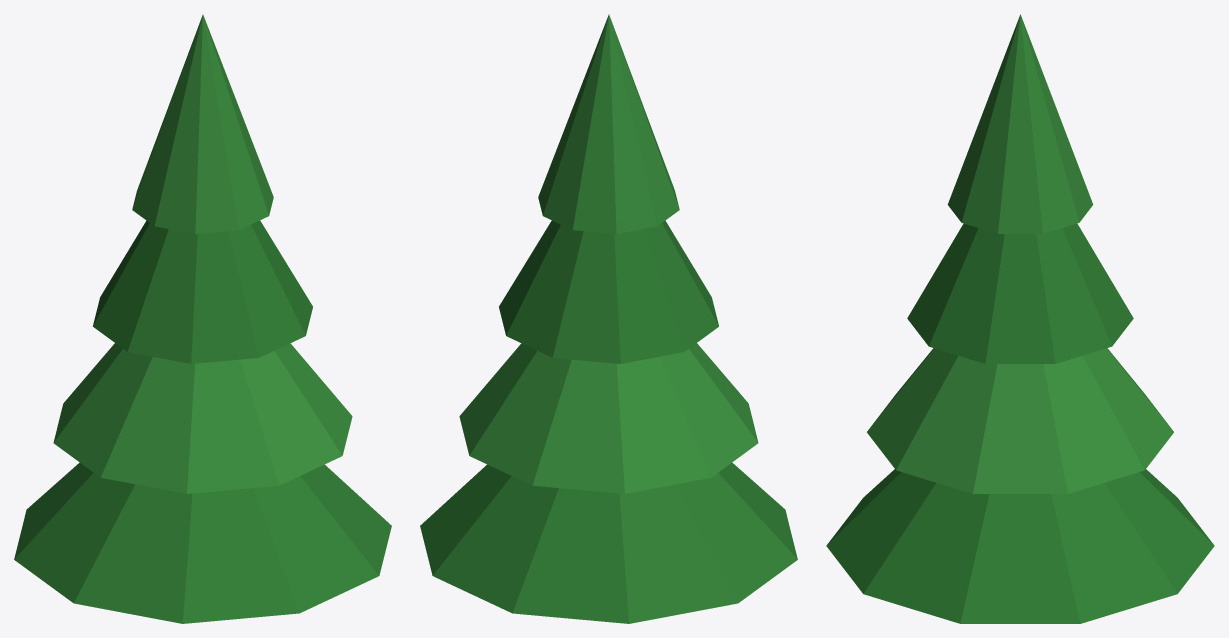
The model's file is Pine.glb.
3 views of the same model, side by side, from view 1: azimuth 30°, elevation 25°; view 2: azimuth 150°, elevation 25°; view 3: azimuth 270°, elevation 25° (orthographic).
Visible parts, largest first — view 1: Pine; view 2: Pine; view 3: Pine.
Boxes of the visible parts, <box> form: Pine: <box>14,14,391,623</box>; Pine: <box>420,14,797,623</box>; Pine: <box>826,14,1214,623</box>.
Size of the model in its own units: 4.57 by 8.15 by 4.8.
